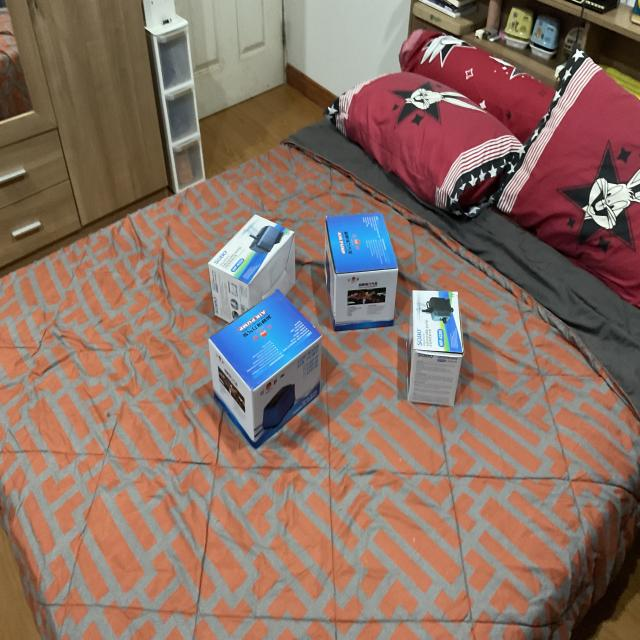SOBO_WP_4200: (200, 201, 304, 333), (403, 273, 470, 421)
YAMANO_LPP_20: (205, 288, 331, 445), (318, 201, 401, 336)
